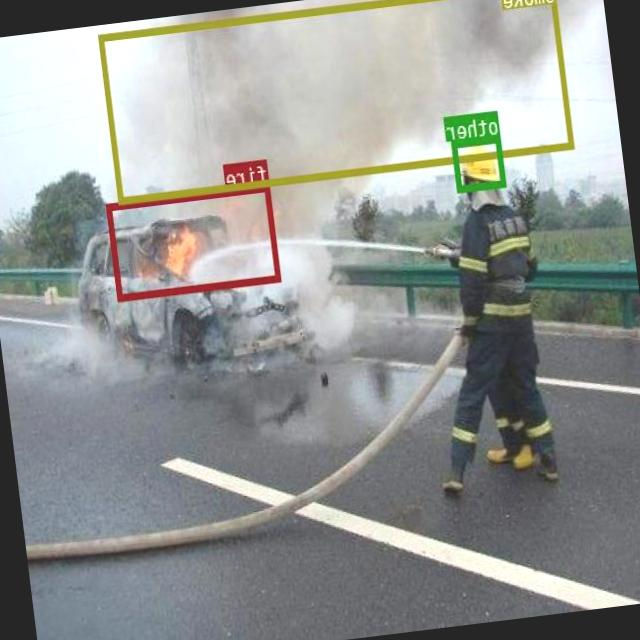fire: (107, 182, 282, 300)
smoke: (99, 0, 575, 202)
